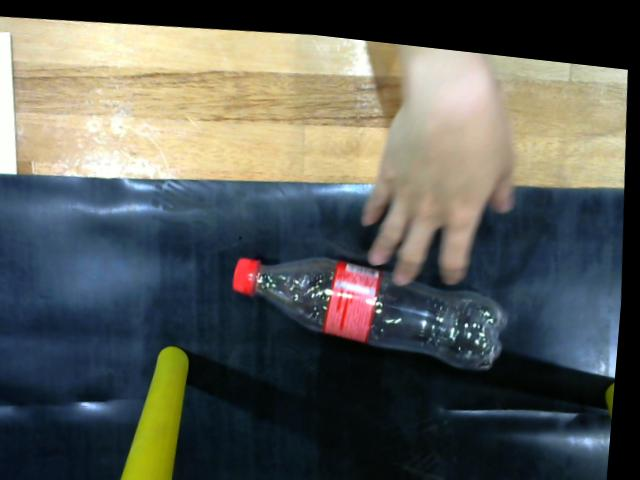bottle: (231, 244, 508, 360)
